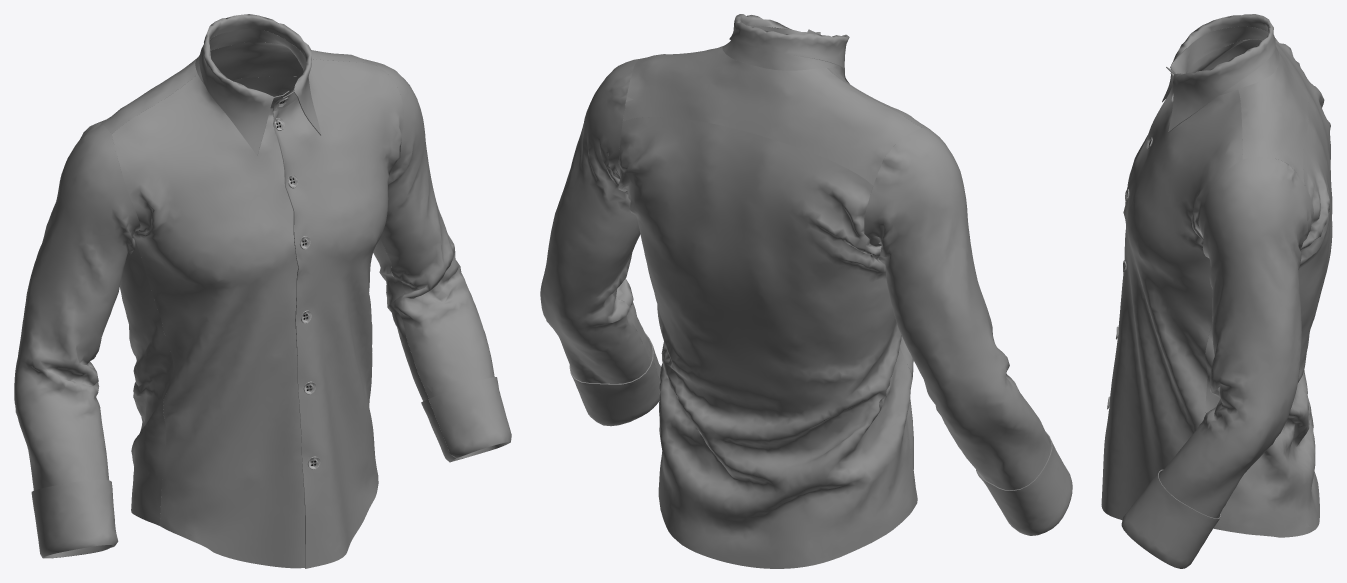
The model's file is long-shirt.glb.
3 views of the same model, side by side, from view 1: azimuth 30°, elevation 25°; view 2: azimuth 150°, elevation 25°; view 3: azimuth 270°, elevation 25° (orthographic). The views are drawn at different scales.
Visible parts, largest first — view 1: Object_7, Object_3, Object_5, Object_4, Object_6, Object_2; view 2: Object_6, Object_5, Object_4, Object_7; view 3: Object_4, Object_3, Object_6, Object_7, Object_5.
Boxes of the visible parts, <box> form: Object_7: <box>99,42,376,568</box>; Object_3: <box>273,59,403,568</box>; Object_5: <box>14,122,140,558</box>; Object_4: <box>195,14,511,462</box>; Object_6: <box>120,76,299,525</box>; Object_2: <box>275,97,320,469</box>; Object_6: <box>617,117,915,568</box>; Object_5: <box>864,128,1072,535</box>; Object_4: <box>540,14,849,426</box>; Object_7: <box>622,46,933,504</box>; Object_4: <box>1121,14,1313,568</box>; Object_3: <box>1101,86,1242,519</box>; Object_6: <box>1205,73,1332,537</box>; Object_7: <box>1127,39,1309,187</box>; Object_5: <box>1205,38,1300,70</box>.
Size of the model in its own units: 0.6443 by 0.6587 by 0.2865.
2 materials, 1 textured.
